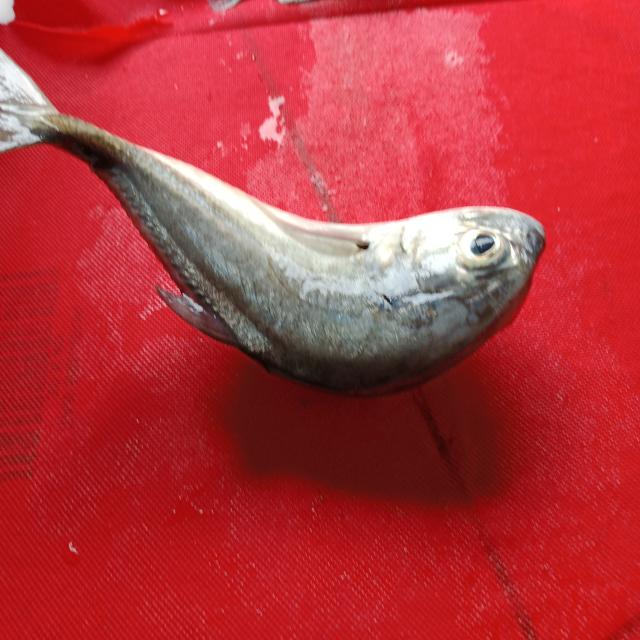ikan: (16, 49, 555, 409)
